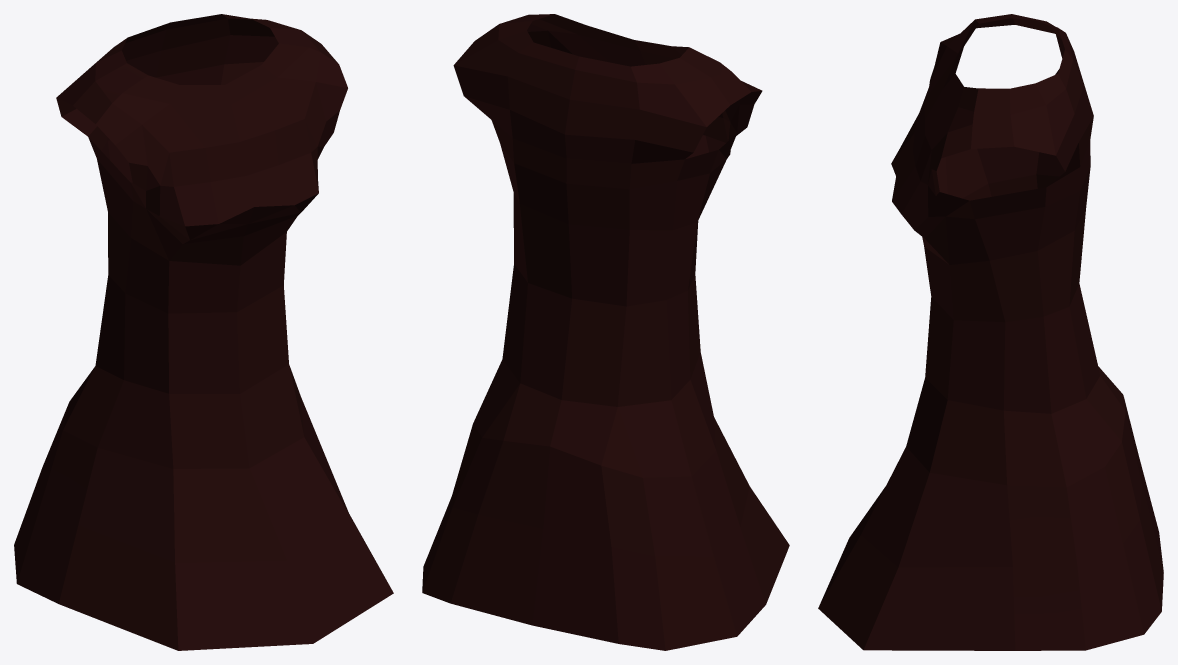
Rendered from Dress.obj.
3 renders of one model, left to right at view 1: azimuth 30°, elevation 25°; view 2: azimuth 150°, elevation 25°; view 3: azimuth 270°, elevation 25°, orthographic. The views are drawn at different scales.
Size of the model in its own units: 0.4628 by 0.8078 by 0.4536.
